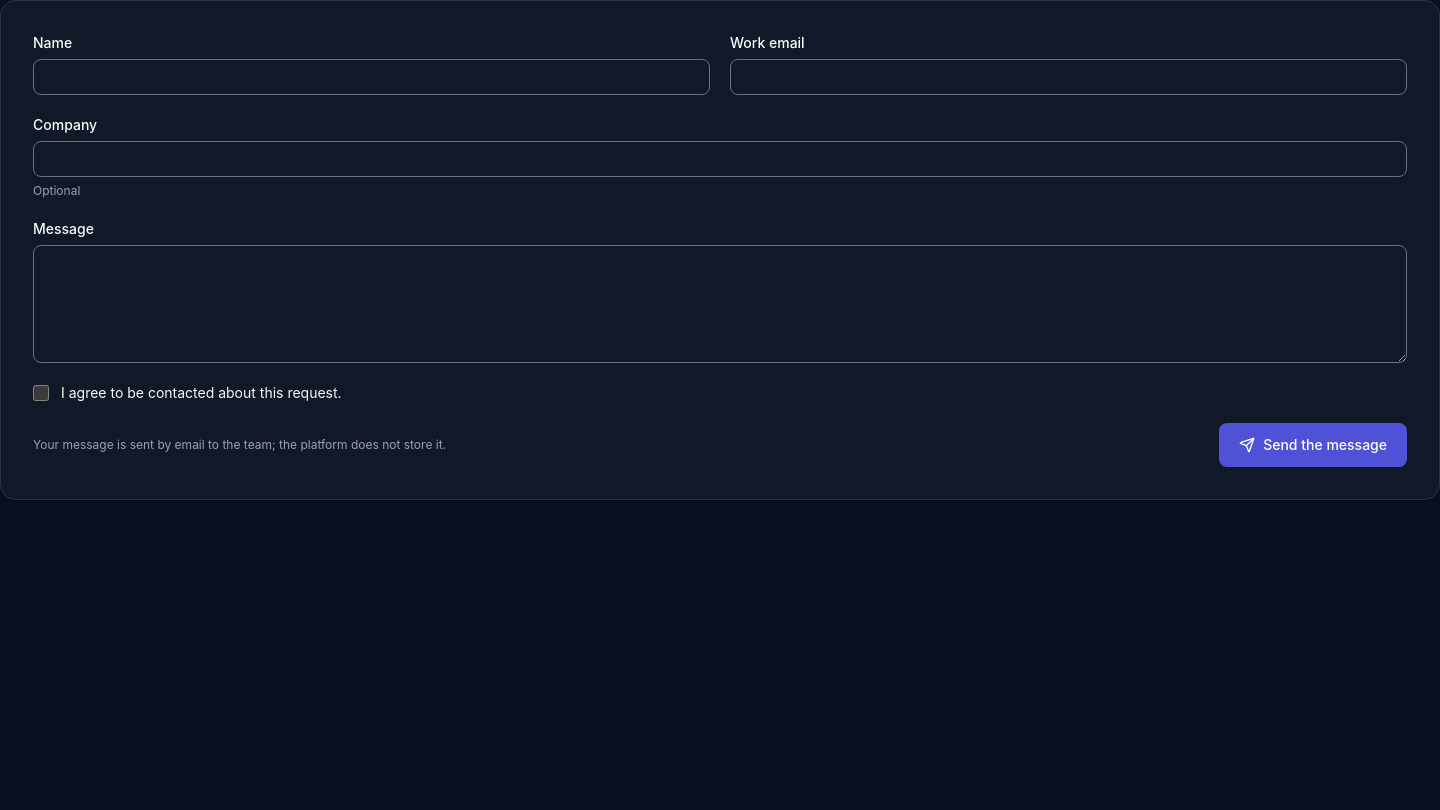
contact form › sends nothing until the form is complete
This screenshot has width=1440, height=810.
Click the button "Send the message" at {"x": 1313, "y": 445}, box x1=1219 y1=423 x2=1407 y2=467
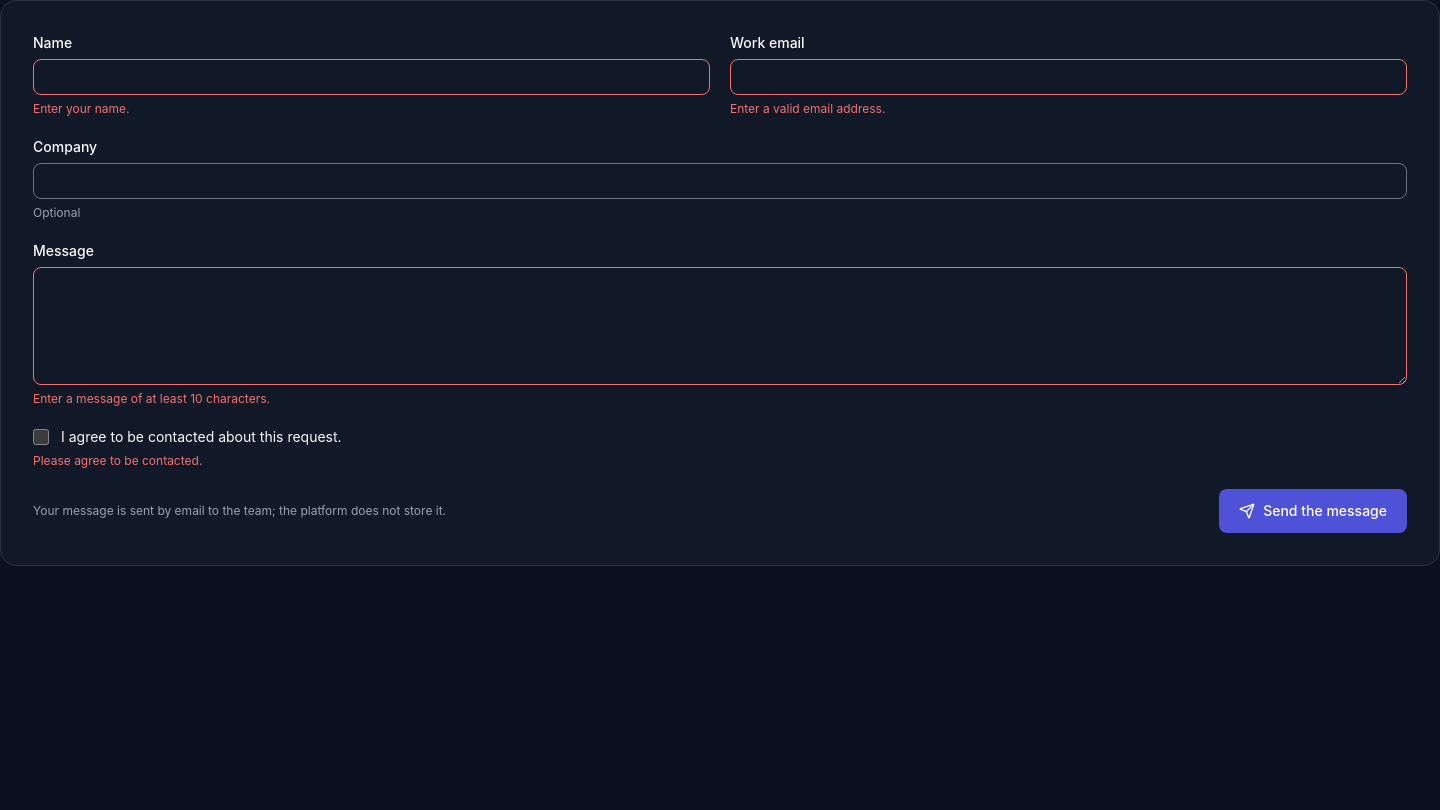
Now the text "Enter your name." is shown, box x1=33 y1=101 x2=130 y2=116
Now the text "Please agree to be contacted." is shown, box x1=33 y1=453 x2=202 y2=468
